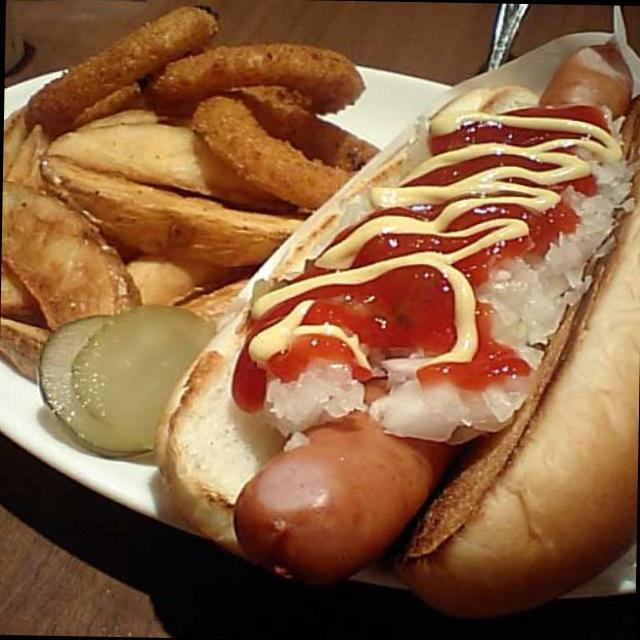Hot Dog: (326, 51, 574, 555)
